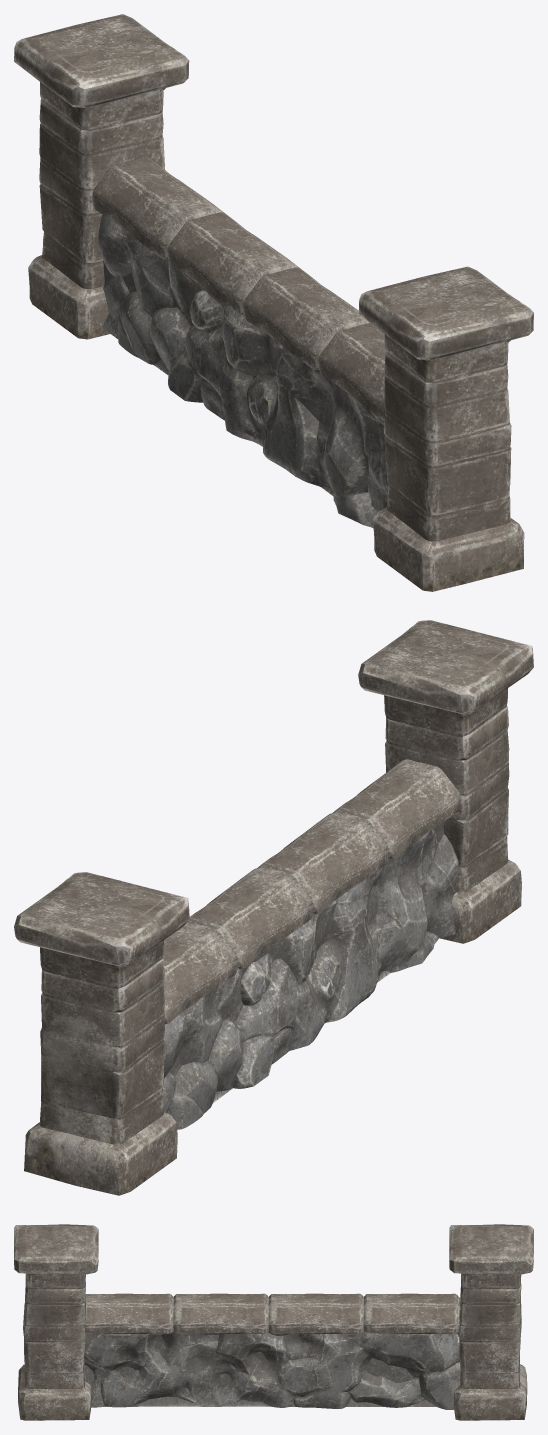
Rendered from stone_wall__low_poly__game_ready.glb.
3 renders of one model, top to bottom at view 1: azimuth 30°, elevation 25°; view 2: azimuth 150°, elevation 25°; view 3: azimuth 270°, elevation 25°, orthographic. The views are drawn at different scales.
Visible parts, largest first — view 1: Pillar, wall, Pillar.001, trim.003, trim.002, trim.001, trim; view 2: Pillar.001, wall, Pillar, trim.001, trim.002, trim, trim.003; view 3: wall, Pillar.001, Pillar, trim.003, trim.001, trim.002, trim.
Part boxes in pixels (x1,y1,x2,y2): Pillar: (358, 266, 533, 591); wall: (97, 214, 388, 528); Pillar.001: (14, 14, 189, 339); trim.003: (92, 157, 227, 259); trim.002: (167, 212, 301, 314); trim.001: (243, 267, 369, 369); trim: (318, 323, 385, 420); Pillar.001: (14, 872, 189, 1195); wall: (163, 822, 458, 1129); Pillar: (358, 620, 533, 943); trim.001: (257, 812, 387, 914); trim.002: (187, 867, 312, 969); trim: (333, 759, 460, 859); trim.003: (162, 922, 237, 1024); wall: (84, 1331, 460, 1409); Pillar.001: (449, 1224, 533, 1420); Pillar: (14, 1224, 98, 1420); trim.003: (363, 1293, 460, 1334); trim.001: (173, 1293, 268, 1334); trim.002: (268, 1293, 363, 1334); trim: (84, 1293, 173, 1334).
Bounding box in the file's own units: 2.3 × 4.94 × 14.08.
Materials: 2 (2 with a texture image).
